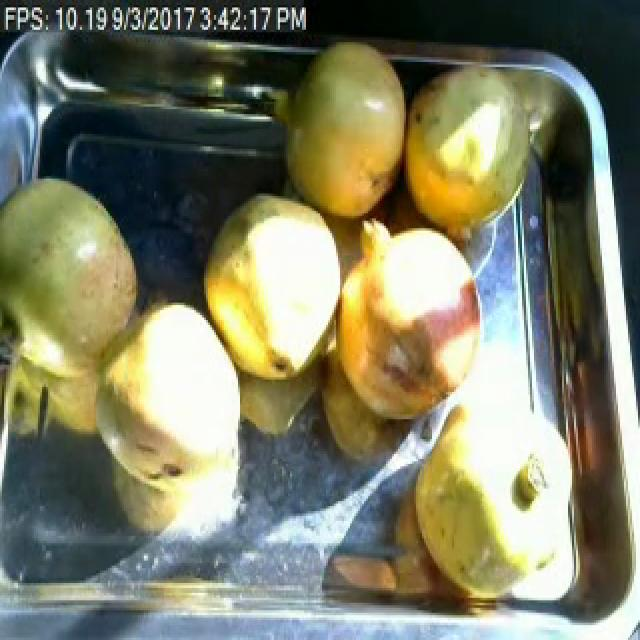fruit: (320, 204, 498, 442), (82, 290, 256, 511), (402, 392, 574, 613), (192, 178, 352, 400), (2, 161, 148, 382), (264, 34, 416, 230), (396, 62, 548, 251)
